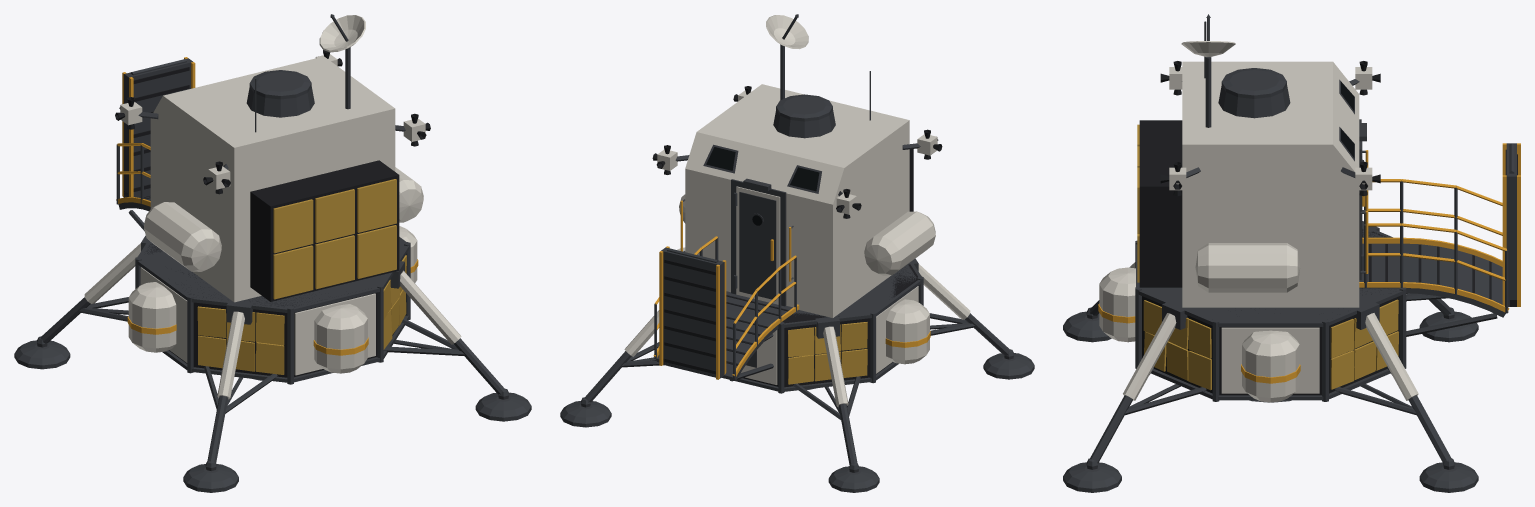
Rendered from lander.glb.
3 views of the same model, side by side, from view 1: azimuth 30°, elevation 25°; view 2: azimuth 150°, elevation 25°; view 3: azimuth 270°, elevation 25° (orthographic). The views are drawn at different scales.
Parts seen in each view (by area): view 1: lander_body, lander_ramp_upper, lander_ramp_lower; view 2: lander_body, lander_ramp_lower, lander_hatch_leaf, lander_ramp_upper; view 3: lander_body, lander_ramp_lower, lander_ramp_upper.
Boxes of the visible parts, box(x1,y1,x2,y2) form: lander_body: box(14, 14, 531, 492); lander_ramp_upper: box(126, 60, 195, 197); lander_ramp_lower: box(122, 57, 190, 197); lander_body: box(560, 14, 1034, 492); lander_ramp_lower: box(659, 248, 722, 379); lander_hatch_leaf: box(734, 186, 780, 304); lander_ramp_upper: box(663, 246, 726, 376); lander_body: box(1063, 14, 1509, 492); lander_ramp_lower: box(1509, 143, 1520, 306); lander_ramp_upper: box(1502, 143, 1511, 306).
Size of the model in its own units: 6.34 by 6.84 by 6.99.
